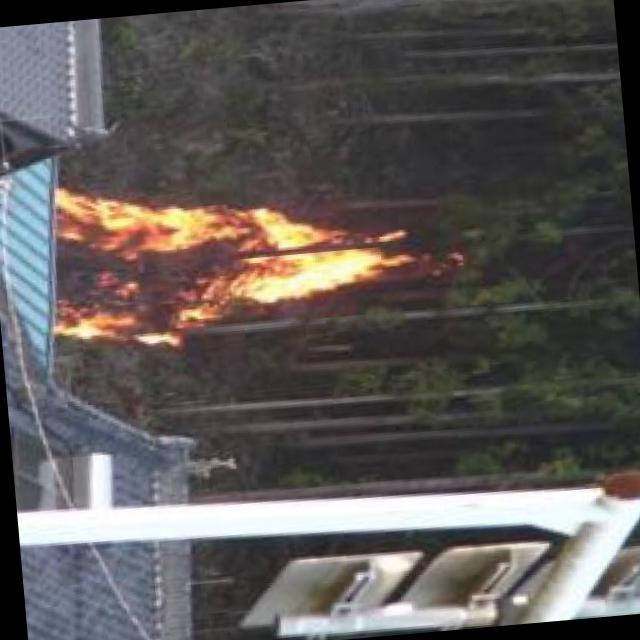Fire: (34, 164, 425, 350)
